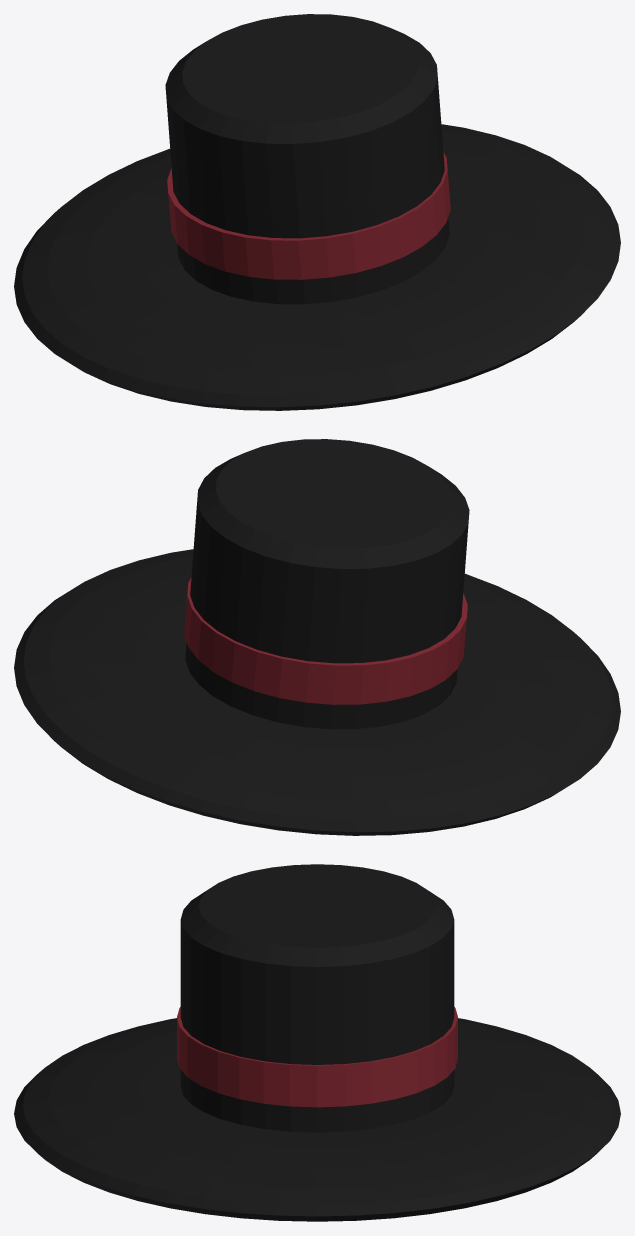
The model's file is TopHat.fbx.
3 views of the same model, one above another, from view 1: azimuth 30°, elevation 25°; view 2: azimuth 150°, elevation 25°; view 3: azimuth 270°, elevation 25° (orthographic).
Visible parts, largest first — view 1: Torus.050, Cylinder; view 2: Torus.050, Cylinder; view 3: Torus.050, Cylinder.
Part boxes in pixels (box(x1,y1,x2,y2)): Torus.050: box(14, 14, 620, 410); Cylinder: box(167, 152, 450, 279); Torus.050: box(14, 439, 620, 835); Cylinder: box(184, 577, 467, 704); Torus.050: box(14, 864, 620, 1221); Cylinder: box(177, 1007, 457, 1107).
Size of the model in its own units: 317 by 143 by 317.
